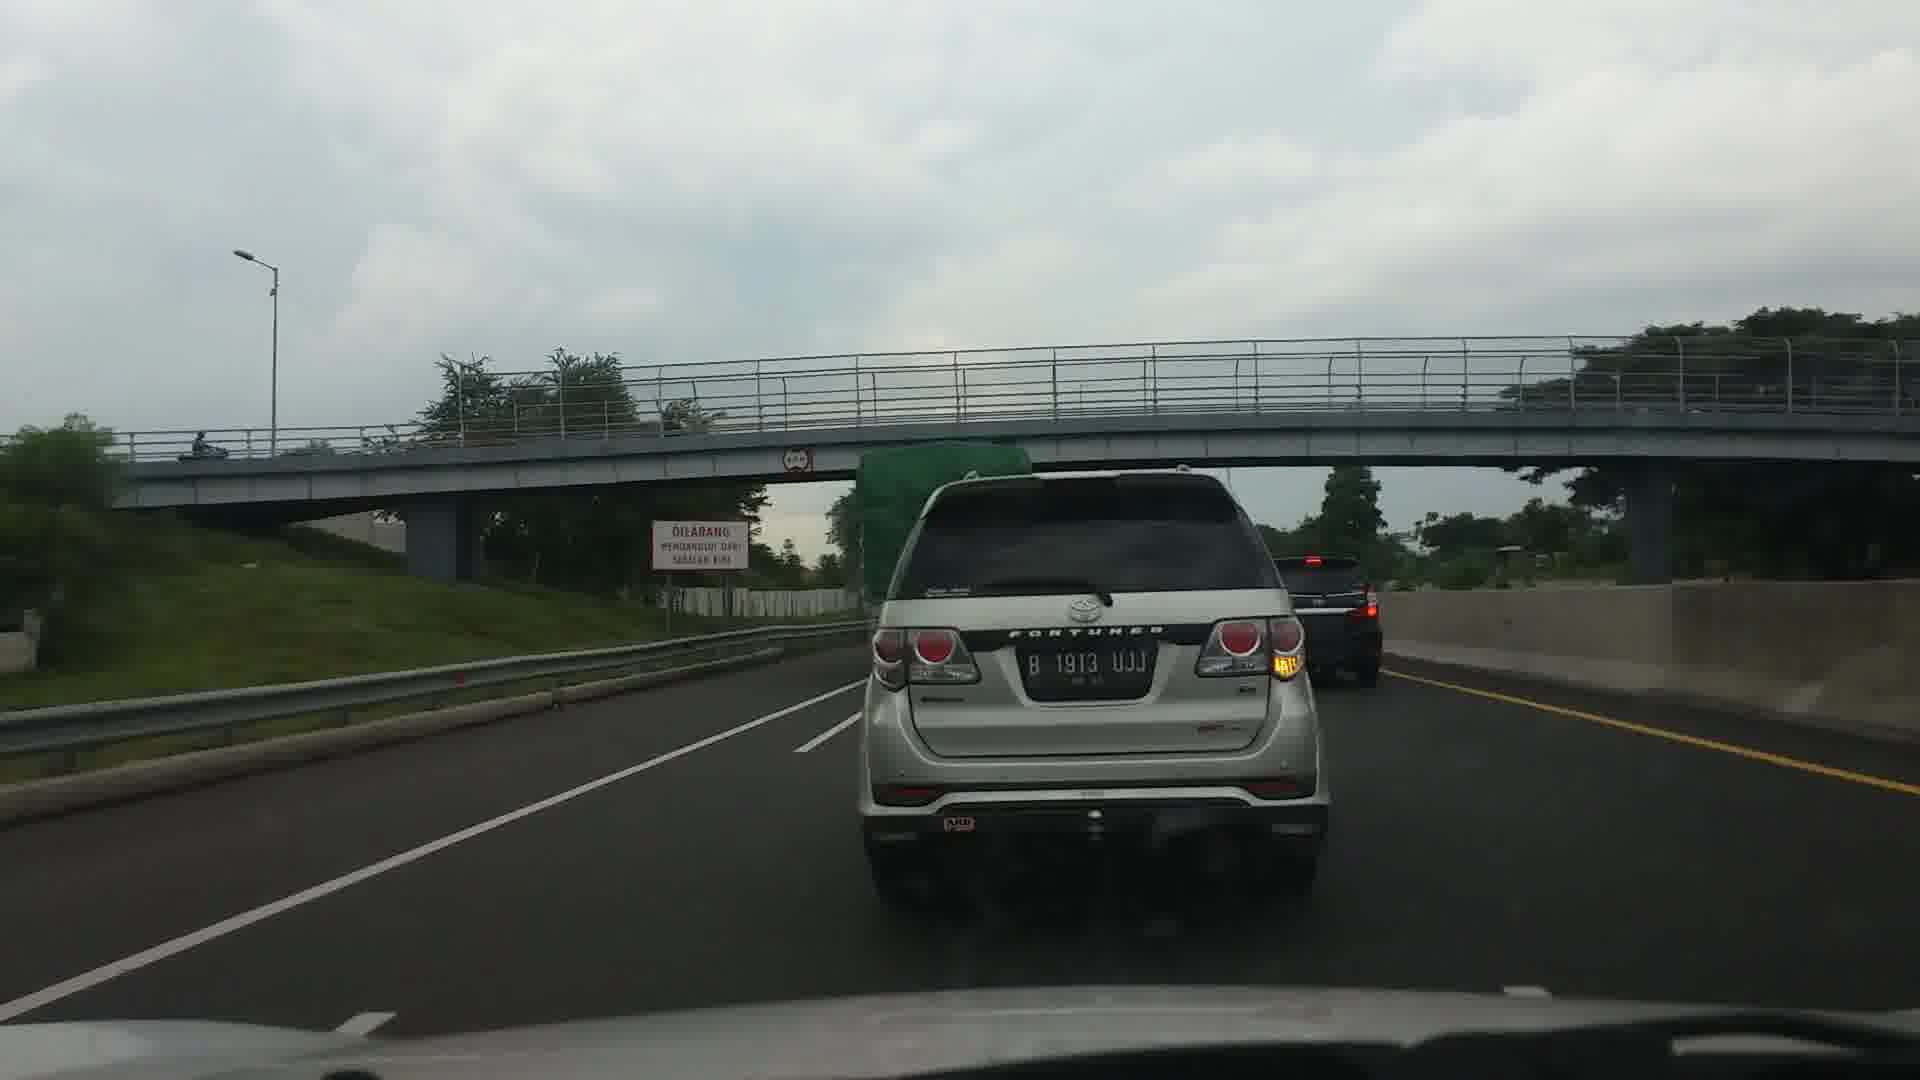plate_positive: (1025, 647, 1149, 688)
